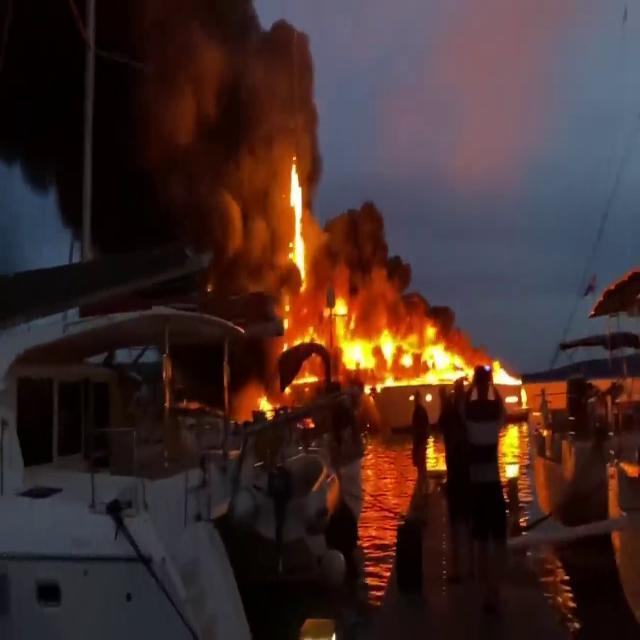Fire: (248, 291, 472, 401), (284, 152, 312, 285)
Smoke: (0, 0, 322, 236)
